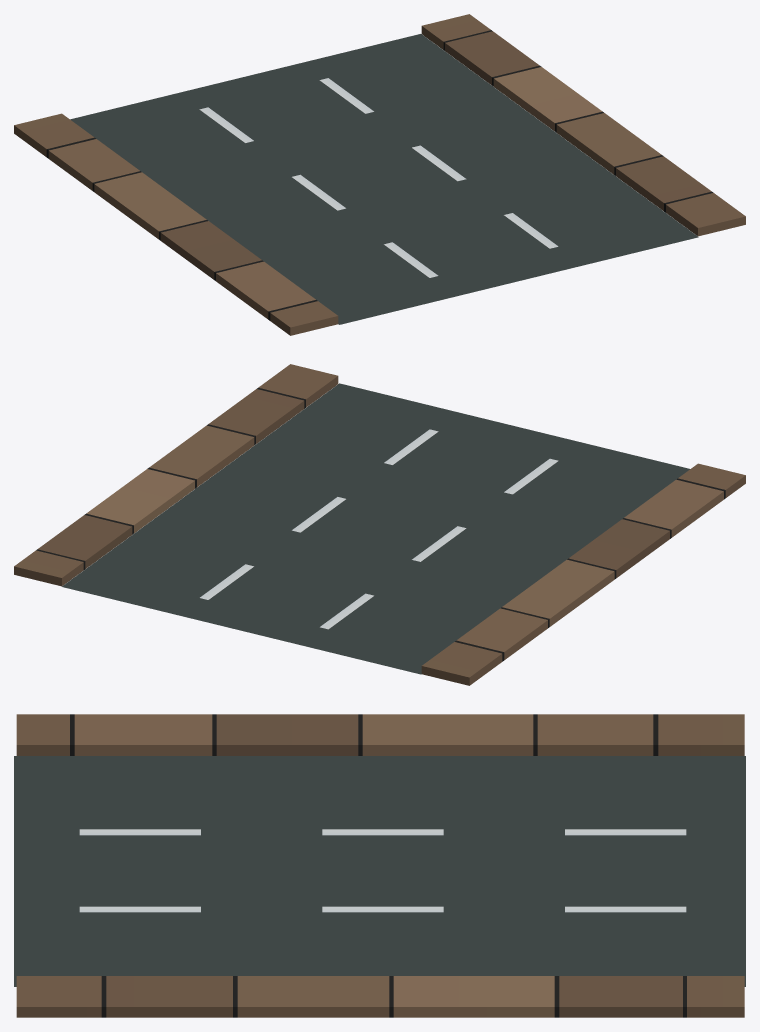
The model's file is Road_1_302.fbx.
The picture shows the model from 3 angles, top to bottom: view 1: azimuth 30°, elevation 25°; view 2: azimuth 150°, elevation 25°; view 3: azimuth 270°, elevation 25°; orthographic projection. The views are drawn at different scales.
Visible parts, largest first — view 1: Road_1_302; view 2: Road_1_302; view 3: Road_1_302.
Boxes of the visible parts, x1=… form: Road_1_302: x1=14, y1=14, x2=745, y2=335; Road_1_302: x1=14, y1=364, x2=745, y2=685; Road_1_302: x1=14, y1=714, x2=745, y2=1017.
Size of the model in its own units: 1712 by 30 by 1810.
